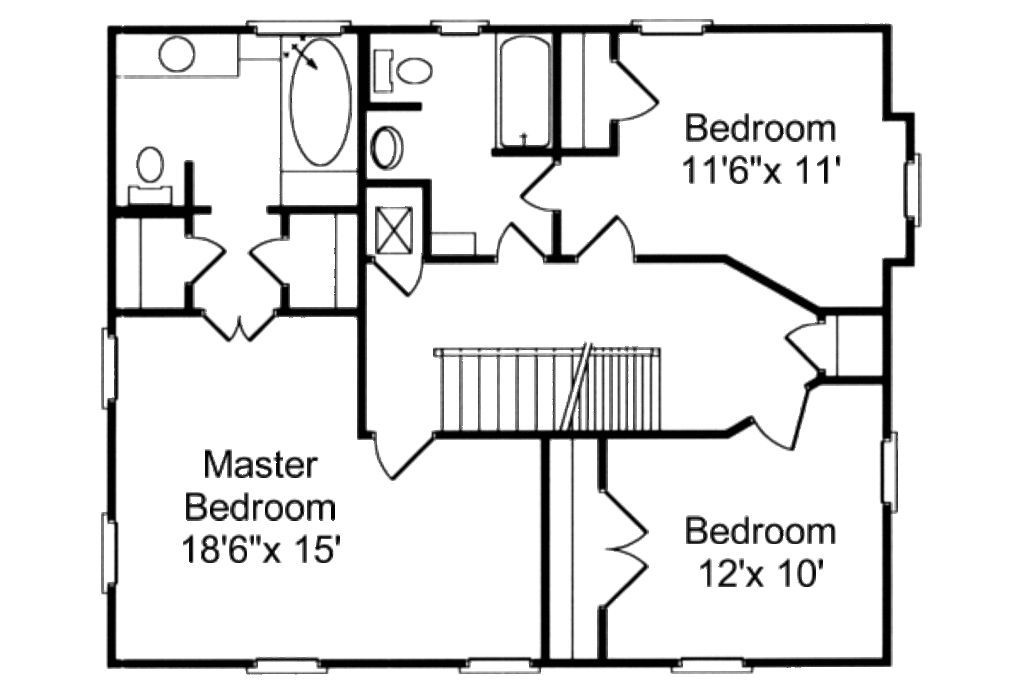coffee_table: (371, 203, 420, 258)
door: (598, 493, 651, 604), (751, 386, 809, 454), (610, 60, 663, 125), (579, 214, 636, 267), (373, 426, 428, 479), (203, 308, 273, 346), (491, 221, 547, 265), (784, 318, 826, 374), (372, 255, 424, 298), (184, 232, 226, 285), (246, 237, 290, 286), (520, 160, 559, 213)
large_sink: (123, 145, 181, 207), (370, 44, 436, 98)
small_sink: (113, 32, 242, 80), (369, 123, 408, 174)
stairs: (429, 339, 665, 435)
tub: (276, 35, 356, 179), (493, 34, 556, 147)
windows: (672, 652, 765, 679), (94, 515, 123, 598), (249, 652, 326, 678), (630, 18, 715, 40), (98, 324, 119, 409), (903, 151, 926, 227), (453, 657, 544, 676), (881, 430, 902, 512), (435, 15, 486, 37)
